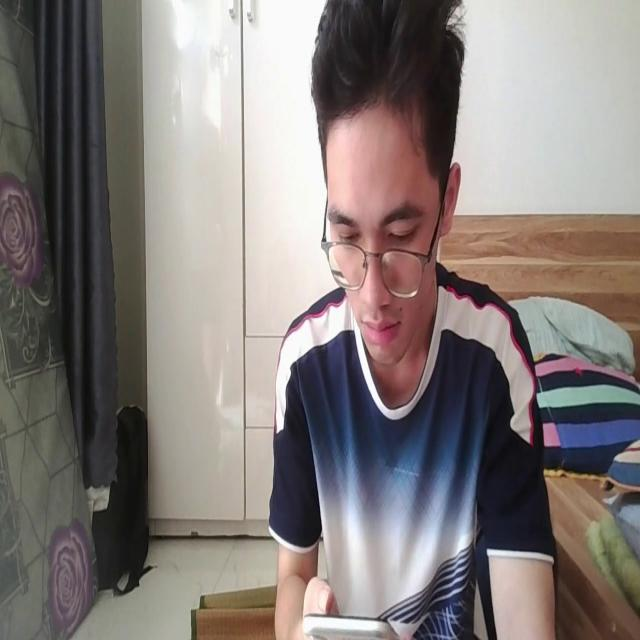phone: (297, 603, 412, 640)
student: (266, 0, 562, 640)
